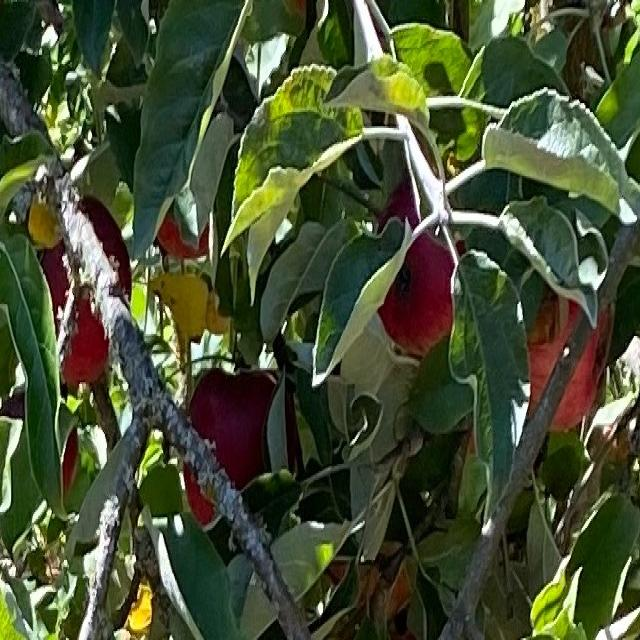100-_ripeness: (37, 196, 132, 384), (183, 364, 279, 524), (378, 180, 466, 352), (525, 286, 610, 430), (0, 384, 79, 503), (157, 204, 211, 262)
